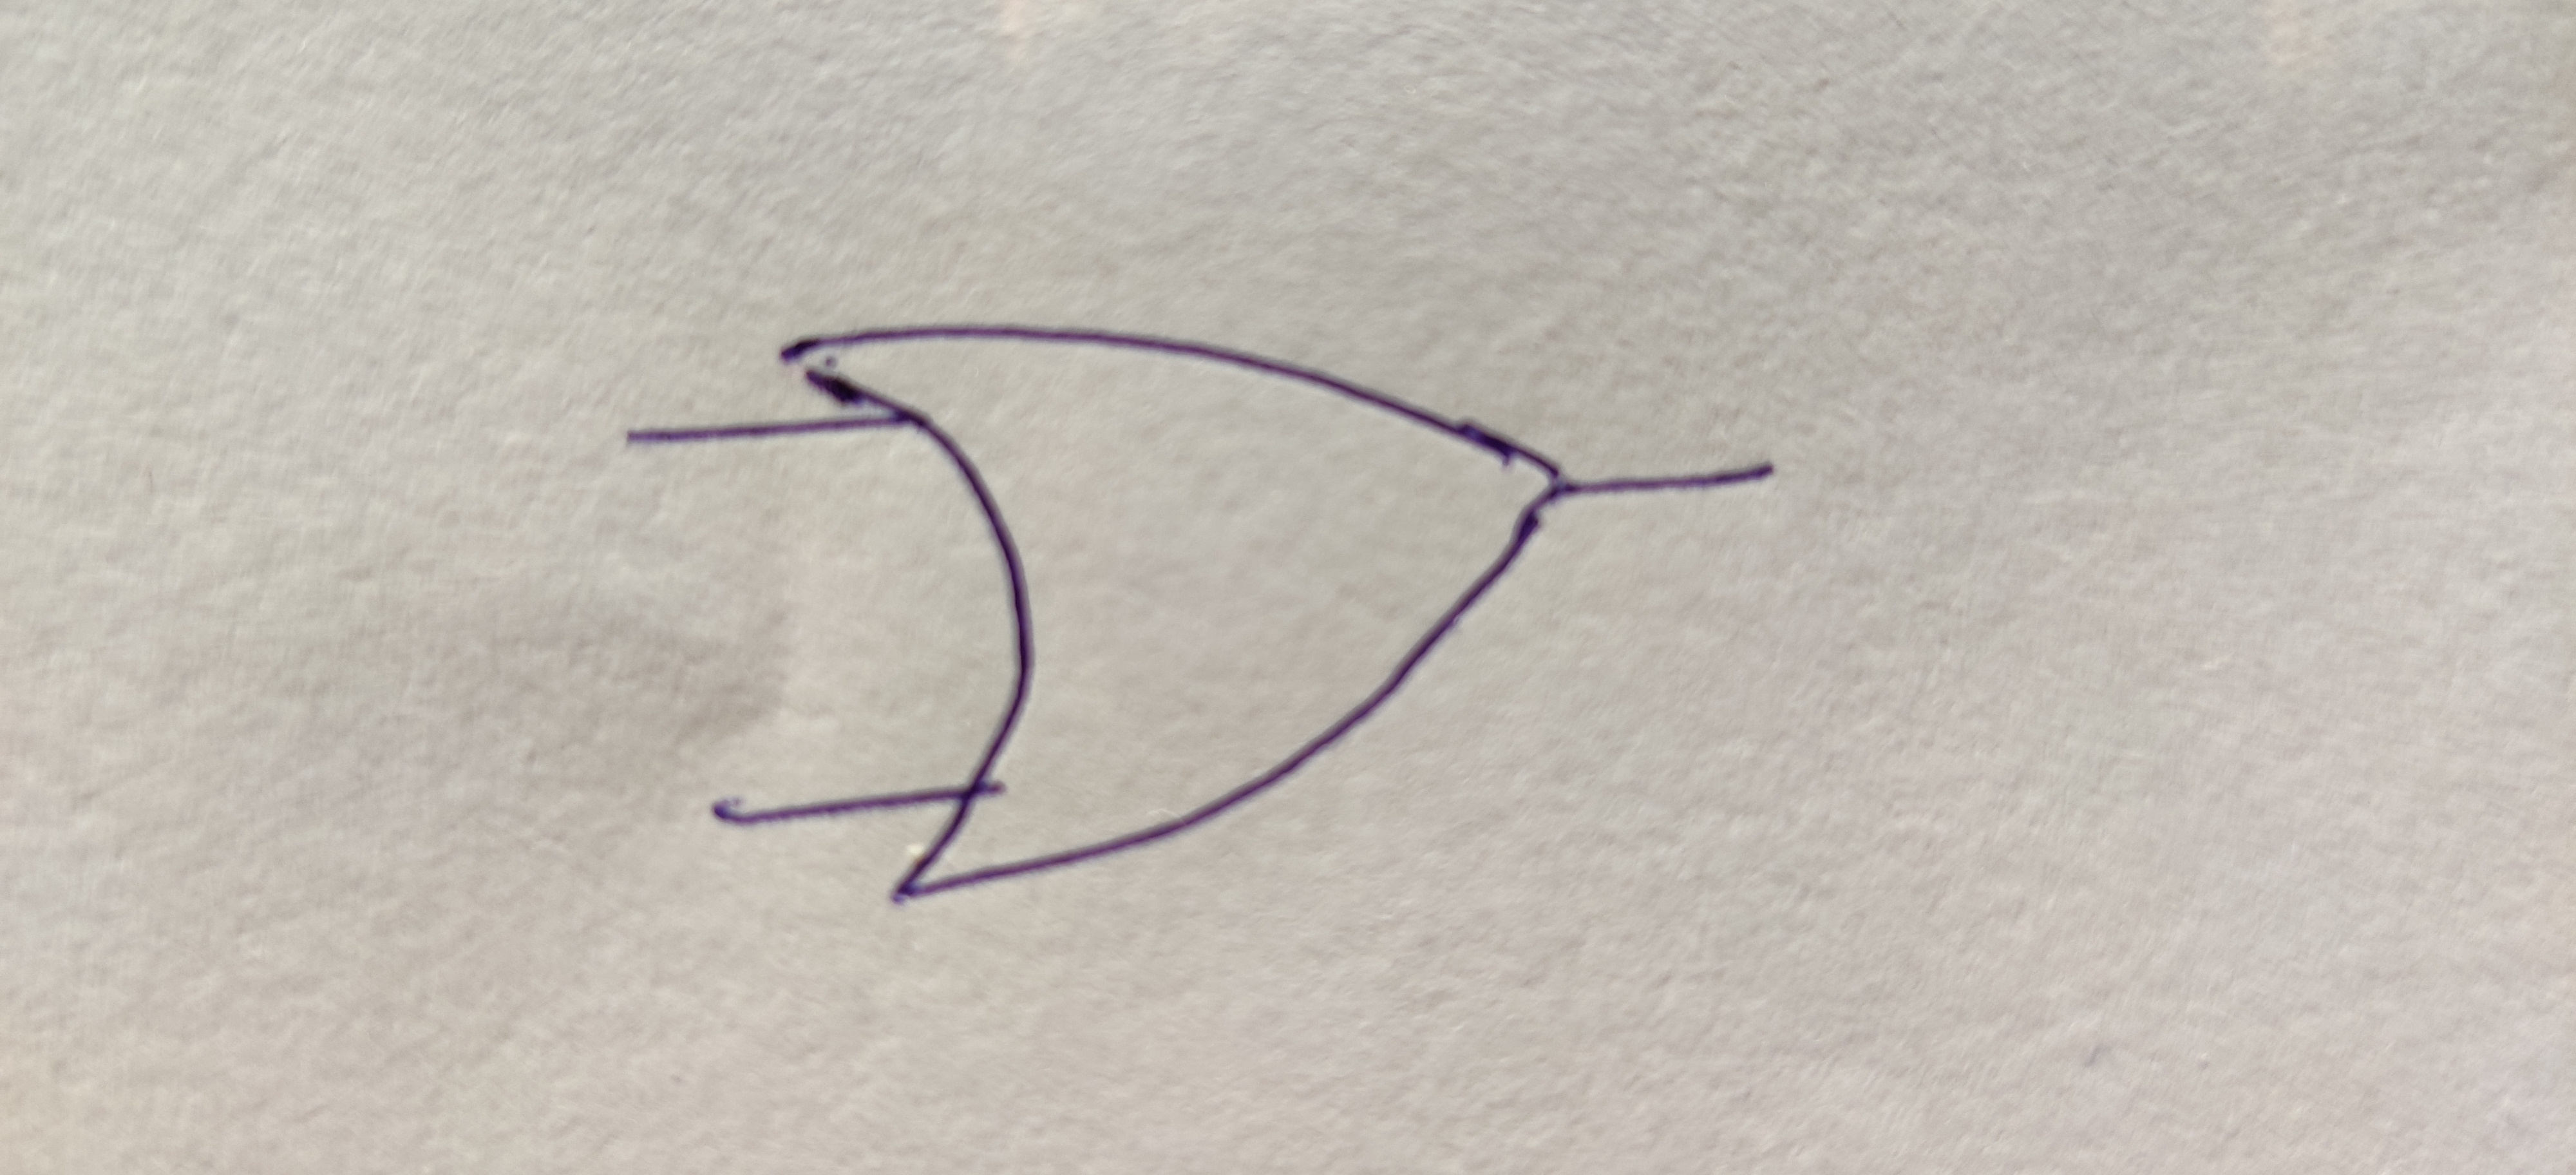or: (790, 325, 1569, 894)
